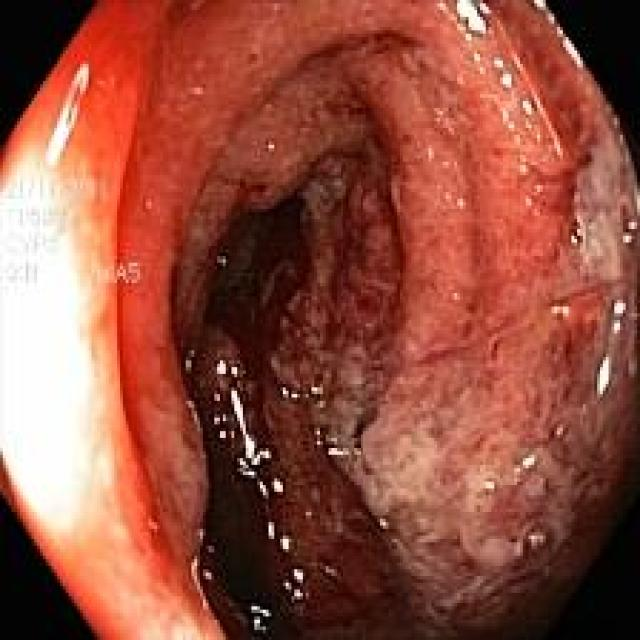ulcerative-colitis-grade-3: (119, 0, 640, 640)
